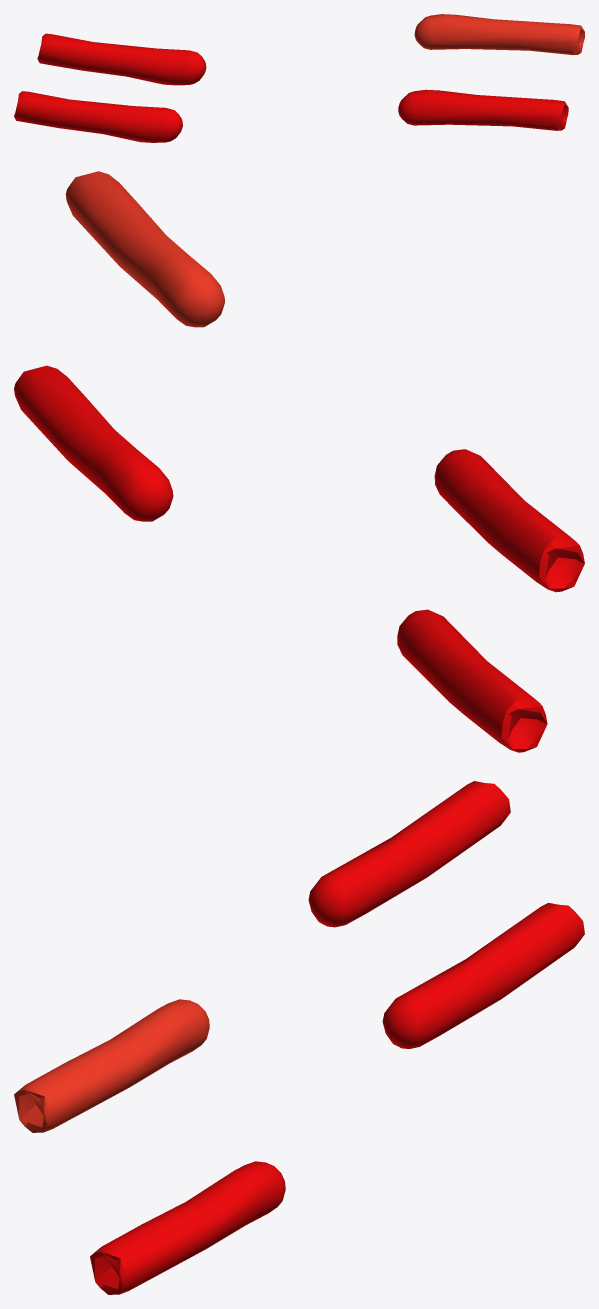
The model's file is vena_pulmonalis.glb.
The picture shows the model from 3 angles, top to bottom: view 1: azimuth 30°, elevation 25°; view 2: azimuth 150°, elevation 25°; view 3: azimuth 270°, elevation 25°; orthographic projection. The views are drawn at different scales.
Parts seen in each view (by area): view 1: FJ3585_BP14836_FMA4754_Right internal jugular vein.001; view 2: FJ3585_BP14836_FMA4754_Right internal jugular vein.001; view 3: FJ3585_BP14836_FMA4754_Right internal jugular vein.001.
Part boxes in pixels (left/top/right/bottom): FJ3585_BP14836_FMA4754_Right internal jugular vein.001: left=14, top=14, right=584, bottom=142; FJ3585_BP14836_FMA4754_Right internal jugular vein.001: left=14, top=171, right=584, bottom=752; FJ3585_BP14836_FMA4754_Right internal jugular vein.001: left=14, top=781, right=584, bottom=1294.
Bounding box in the file's own units: 0.1195 × 0.034 × 0.0831.
